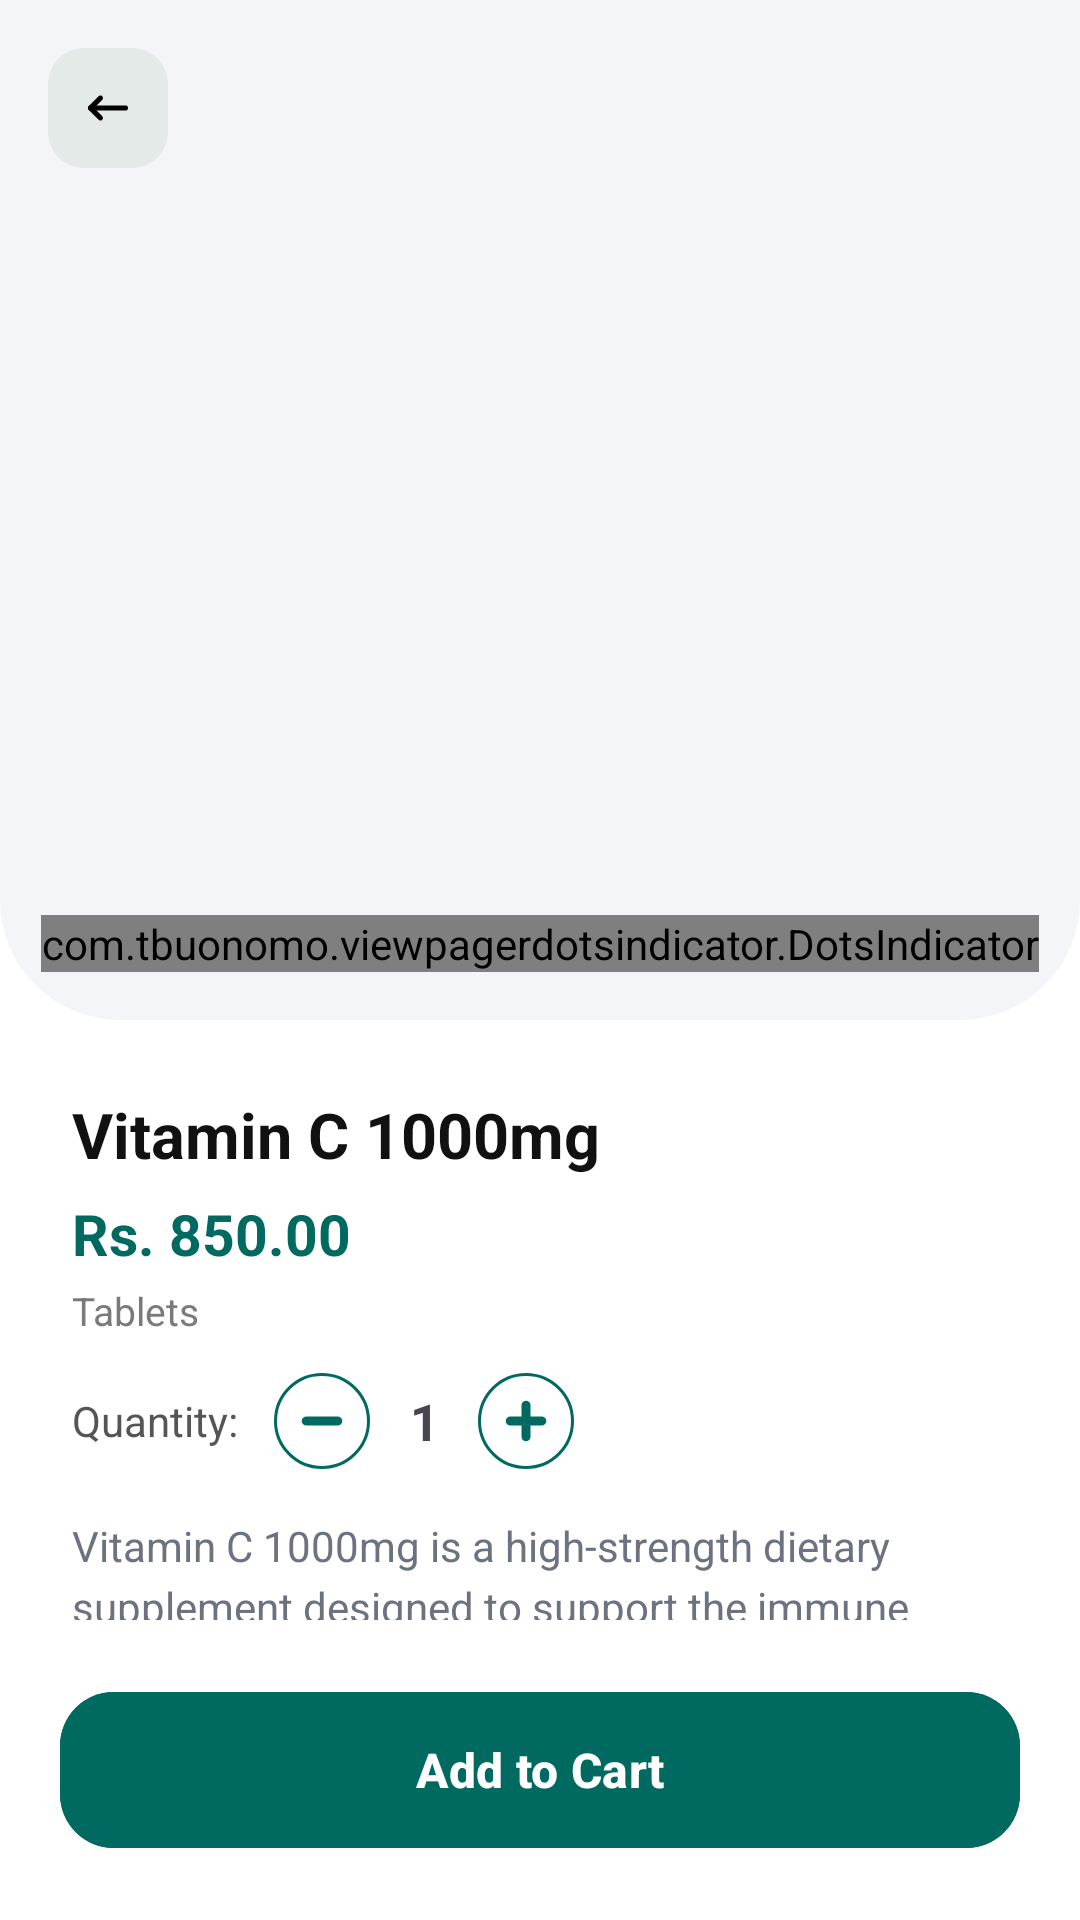

Icons on this 1080*1920 Android screen, each with the point to tap as (x,y):
back: (108,108)
minus: (322,1421)
plus: (526,1421)
